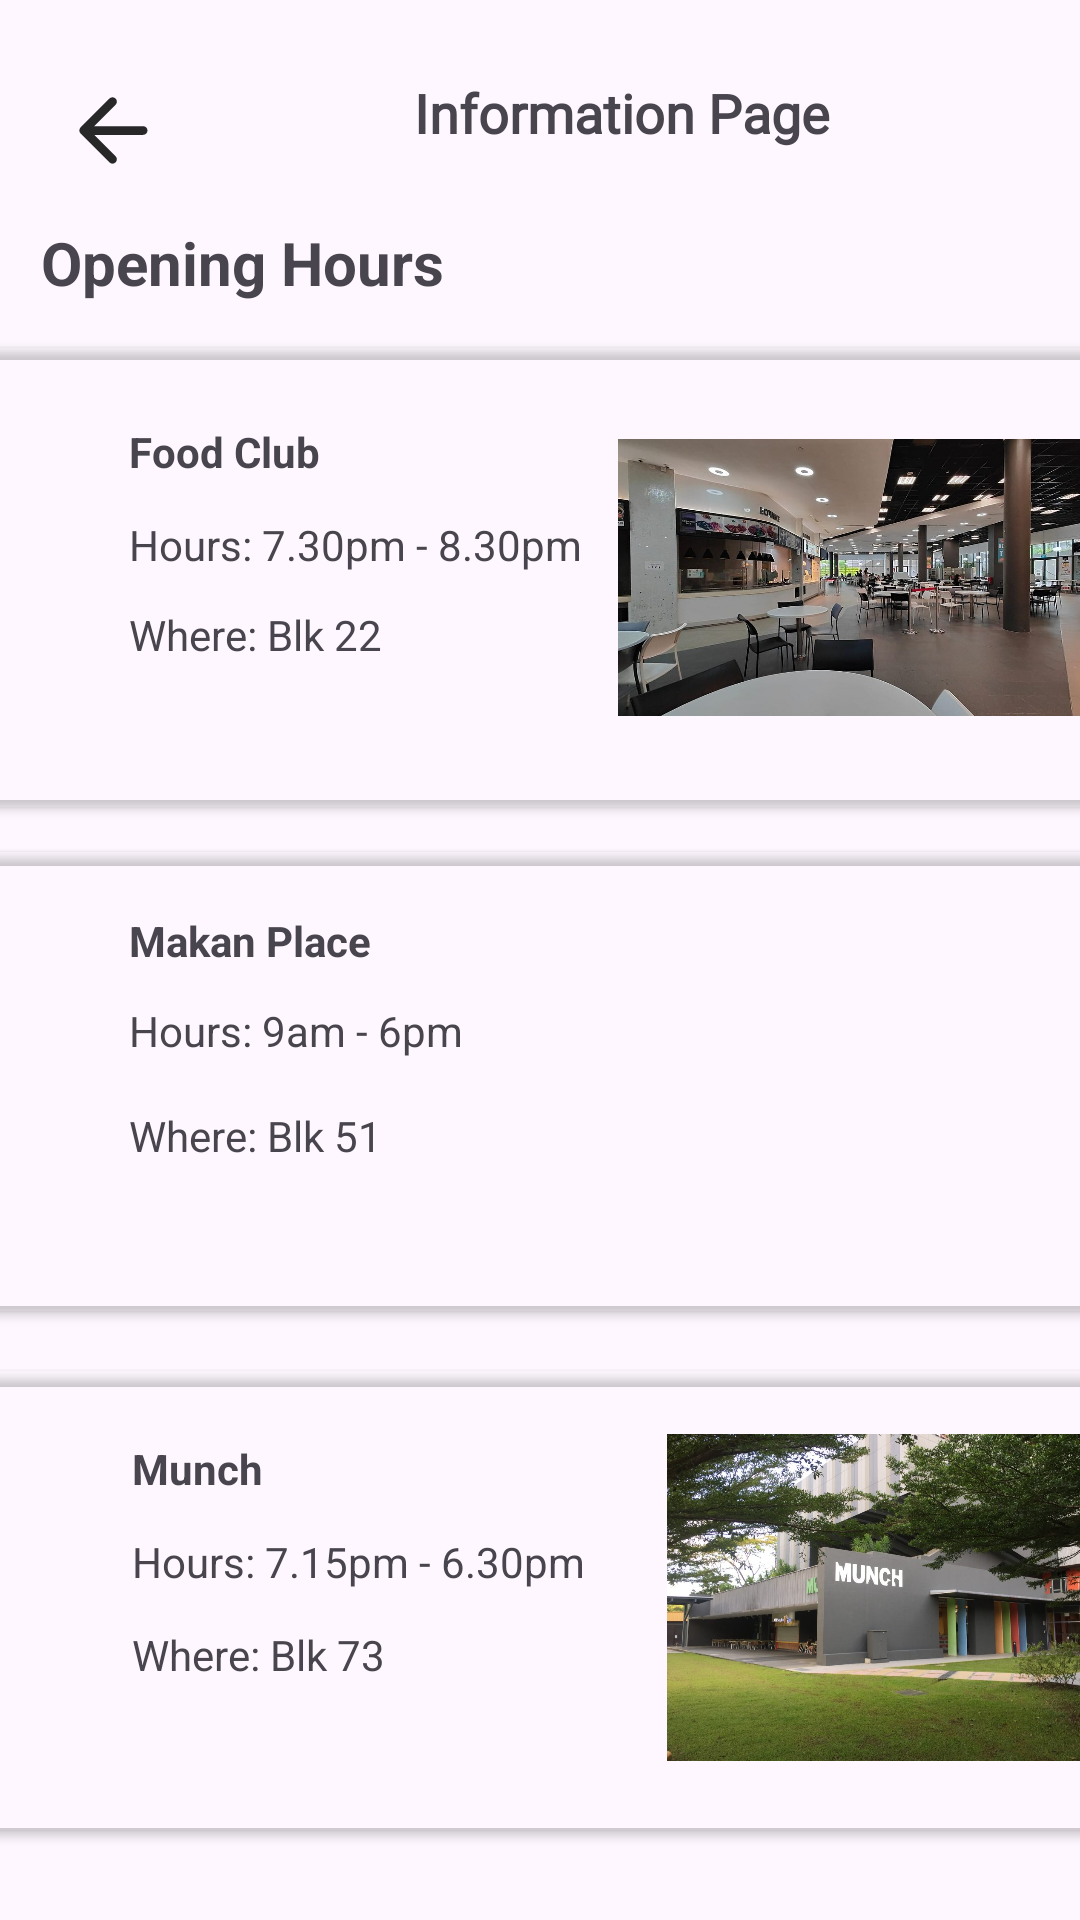

Named icons in this screenshot (1080px×1920px) and their centers, (x=x, y=y):
backb: (x=113, y=130)
